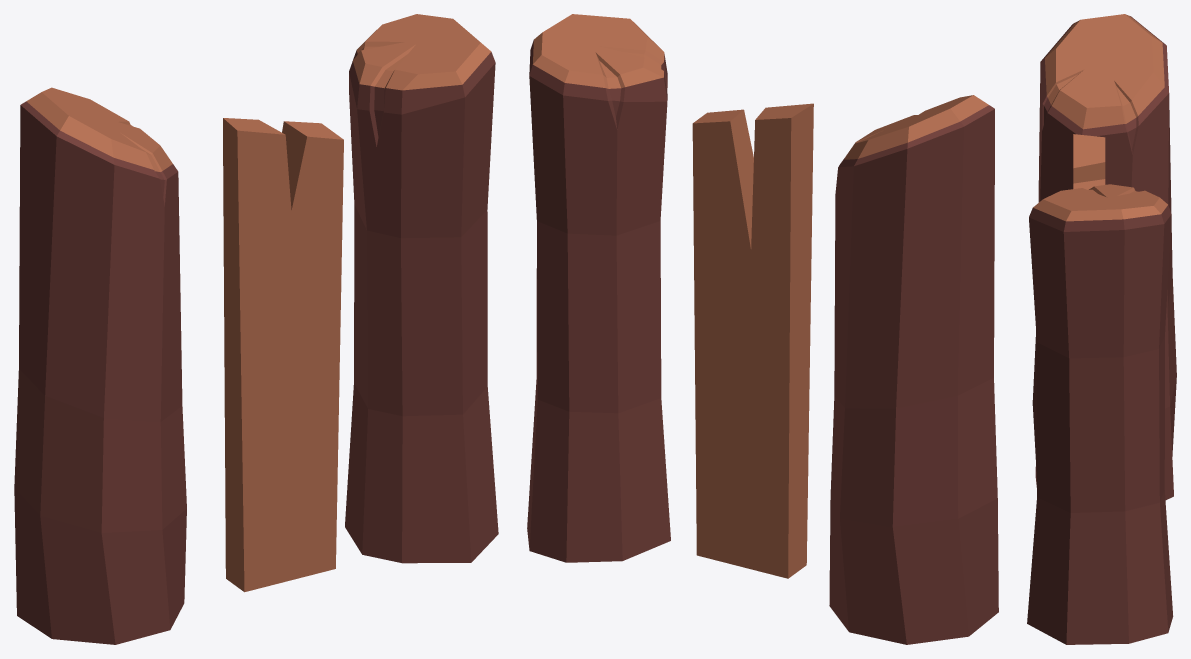
Rendered from Fence Wooden Blunt 15.fbx.
3 renders of one model, left to right at view 1: azimuth 30°, elevation 25°; view 2: azimuth 150°, elevation 25°; view 3: azimuth 270°, elevation 25°, orthographic. The views are drawn at different scales.
Parts seen in each view (by area): view 1: Wooden Pole Blunt 15; view 2: Wooden Pole Blunt 15; view 3: Wooden Pole Blunt 15.
Part boxes in pixels (left/top/right/bottom): Wooden Pole Blunt 15: left=14, top=14, right=498, bottom=644; Wooden Pole Blunt 15: left=527, top=14, right=998, bottom=644; Wooden Pole Blunt 15: left=1027, top=14, right=1176, bottom=644.
Bounding box in the file's own units: 99.63 × 111 × 33.3.
